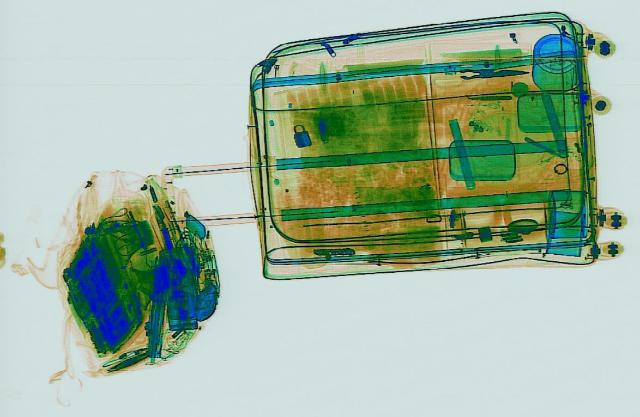Knife: (458, 65, 530, 79)
